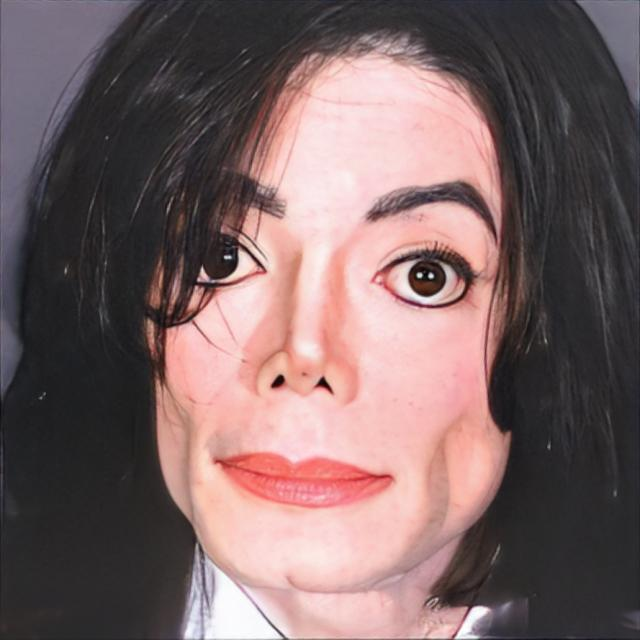surprise: (143, 23, 518, 596)
